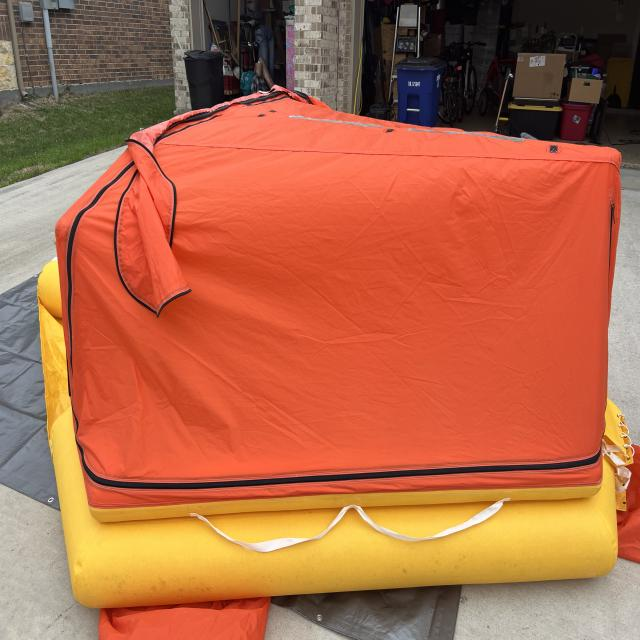Multi-person_life_raft: (37, 88, 640, 639)
